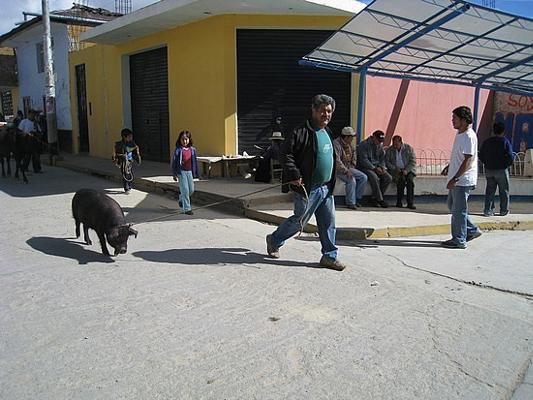person: (266, 92, 348, 272)
